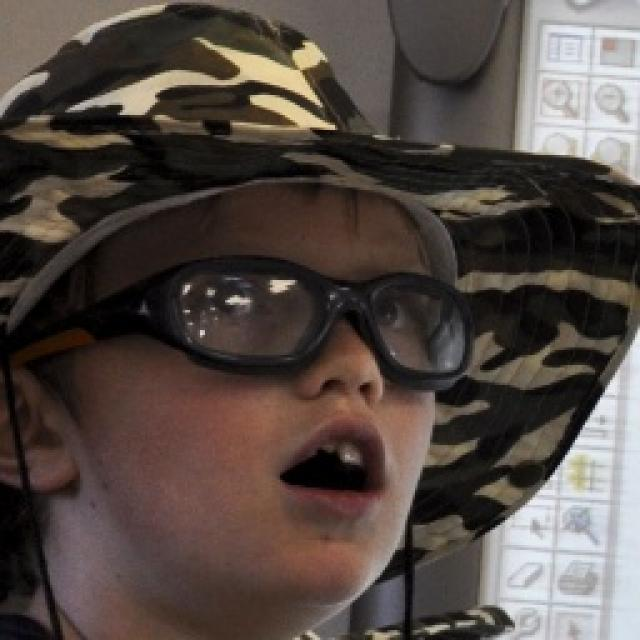glasses: (46, 251, 494, 394)
